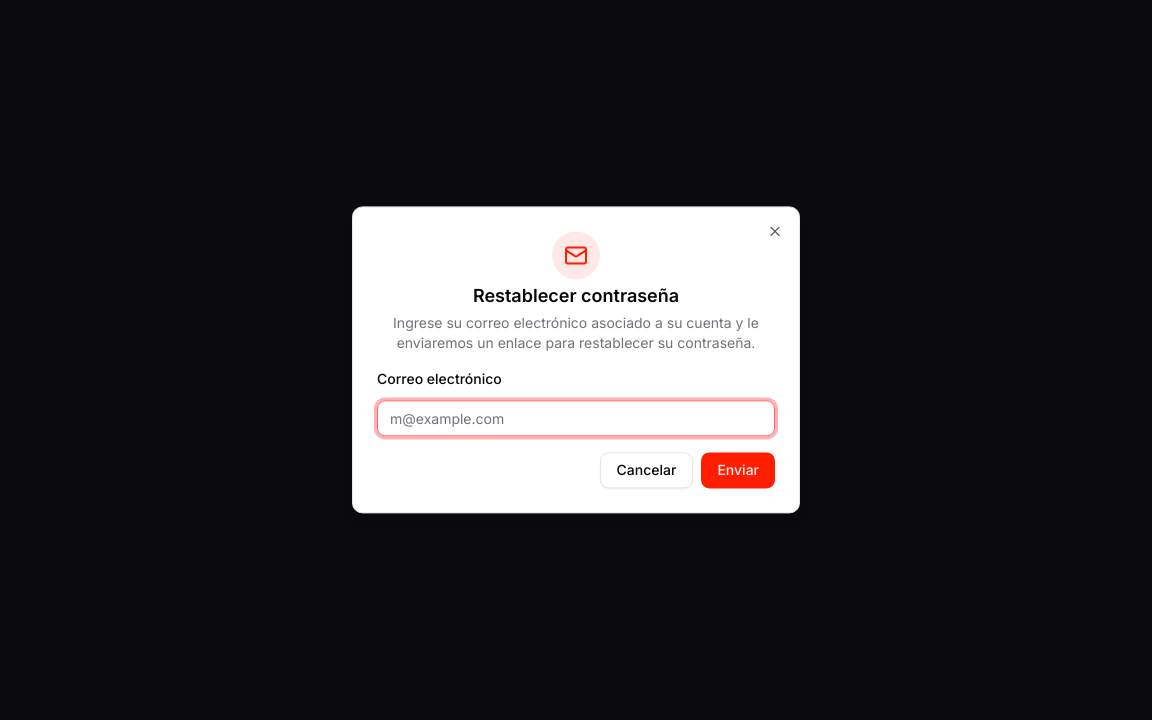
RequestPasswordResetDialog › should show validation error when submitting empty form
The image size is (1152, 720).
Click the button "Enviar" at (738, 471), box [701,453,775,489]
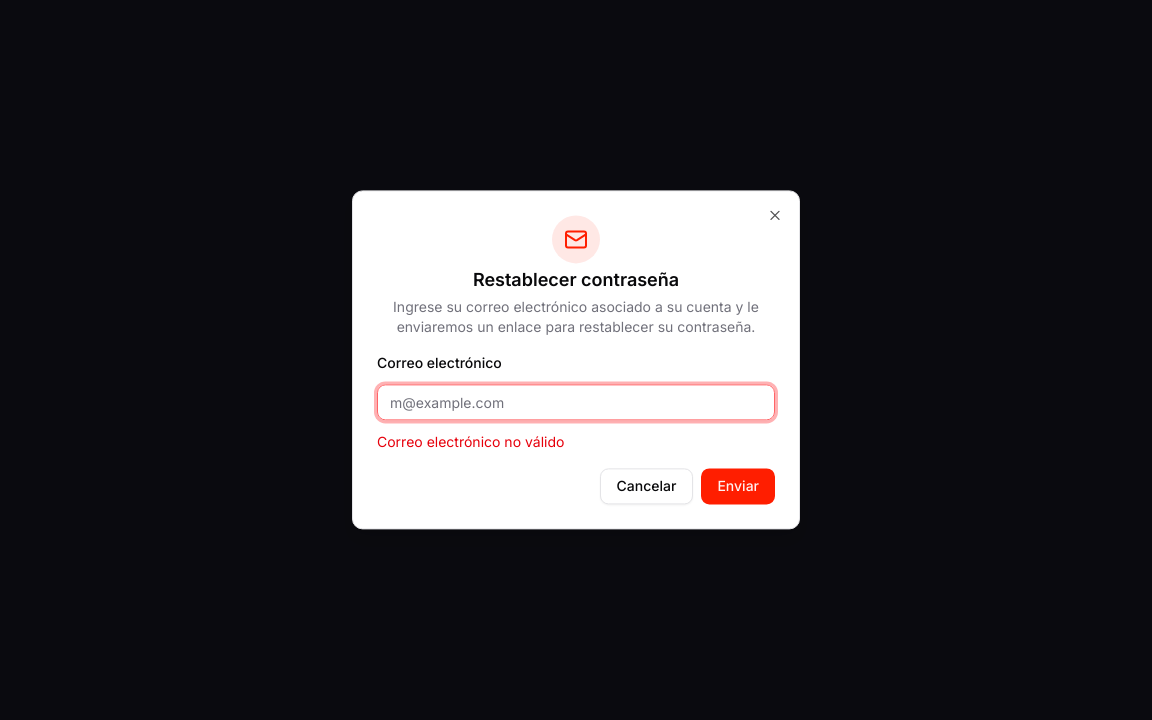
Result: the text "Correo electrónico no válido" is shown at [377,434,564,451]
